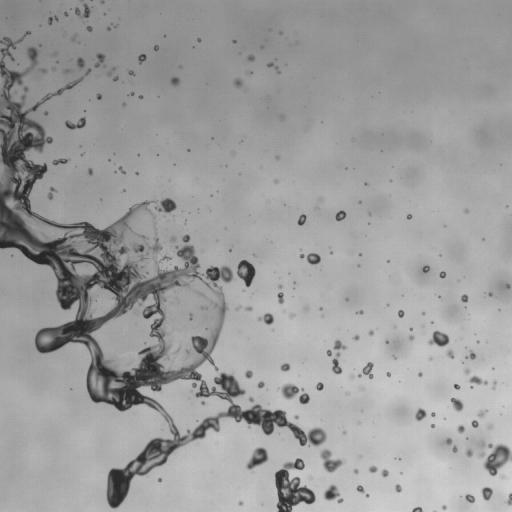droplet: (274, 458, 315, 511), (478, 441, 511, 476), (320, 449, 345, 472), (246, 447, 268, 470), (237, 259, 255, 286), (323, 485, 343, 502), (428, 330, 449, 346), (358, 362, 373, 378), (75, 3, 90, 18), (468, 375, 487, 386), (450, 398, 463, 411), (258, 313, 273, 324), (94, 53, 105, 67), (481, 486, 492, 500), (415, 408, 426, 420), (335, 210, 346, 221), (182, 310, 193, 320), (297, 214, 306, 225), (464, 494, 474, 503), (280, 363, 290, 371), (77, 57, 84, 68), (138, 54, 146, 63), (170, 77, 179, 85), (234, 78, 242, 87), (478, 409, 487, 417), (467, 351, 475, 359), (457, 425, 465, 433), (465, 449, 473, 457), (446, 349, 453, 358), (461, 294, 468, 302), (245, 370, 252, 378), (316, 382, 323, 390), (369, 466, 377, 473), (381, 469, 388, 477), (356, 485, 364, 492), (422, 265, 429, 272), (257, 381, 264, 388), (471, 420, 478, 427), (395, 484, 401, 492), (247, 55, 254, 61), (439, 271, 445, 278), (398, 310, 404, 317), (464, 368, 470, 374), (446, 438, 452, 444), (86, 26, 92, 31), (85, 69, 90, 75), (128, 70, 134, 75), (406, 214, 412, 219), (170, 237, 176, 242), (246, 306, 252, 311), (303, 306, 308, 312), (288, 313, 294, 318), (353, 335, 359, 340), (326, 350, 331, 356), (454, 384, 460, 389), (248, 397, 254, 402), (452, 446, 457, 452), (175, 297, 179, 304), (356, 310, 363, 314), (113, 76, 118, 81), (96, 94, 101, 99), (368, 330, 373, 335), (487, 424, 492, 429), (500, 474, 505, 479), (88, 168, 92, 174), (154, 45, 158, 50), (409, 335, 413, 340), (418, 372, 422, 377), (349, 374, 354, 378), (431, 412, 435, 417), (353, 469, 358, 473), (157, 478, 162, 482), (238, 501, 243, 505), (442, 505, 446, 510), (71, 36, 75, 40), (42, 68, 46, 72), (464, 209, 468, 213), (488, 292, 492, 296), (236, 306, 240, 310), (386, 372, 390, 376), (201, 401, 205, 405), (431, 424, 435, 428), (278, 284, 281, 289), (64, 12, 68, 15), (197, 38, 200, 42), (64, 69, 68, 72), (274, 179, 277, 183), (139, 95, 142, 98), (44, 112, 47, 115), (506, 285, 509, 288), (295, 415, 298, 418), (343, 431, 346, 434), (365, 494, 368, 497), (101, 0, 103, 3), (107, 27, 110, 29), (233, 40, 235, 43), (108, 73, 111, 75), (122, 103, 125, 105), (319, 198, 322, 200), (135, 310, 138, 312), (422, 312, 424, 315), (409, 328, 412, 330), (54, 53, 56, 55), (112, 68, 114, 70), (131, 92, 133, 94), (81, 153, 83, 155), (276, 156, 278, 158), (136, 172, 138, 174), (330, 252, 332, 254), (359, 253, 361, 255), (319, 307, 321, 309), (178, 329, 180, 331), (386, 340, 388, 342), (430, 358, 432, 360)
ligament: (0, 32, 321, 506), (278, 383, 309, 404), (332, 340, 346, 374), (299, 253, 320, 265), (65, 117, 85, 129), (267, 62, 280, 73), (52, 158, 68, 164), (277, 291, 284, 304), (48, 187, 55, 199), (48, 16, 58, 24), (506, 493, 511, 505), (118, 166, 125, 173), (412, 507, 423, 511), (492, 381, 496, 388)
